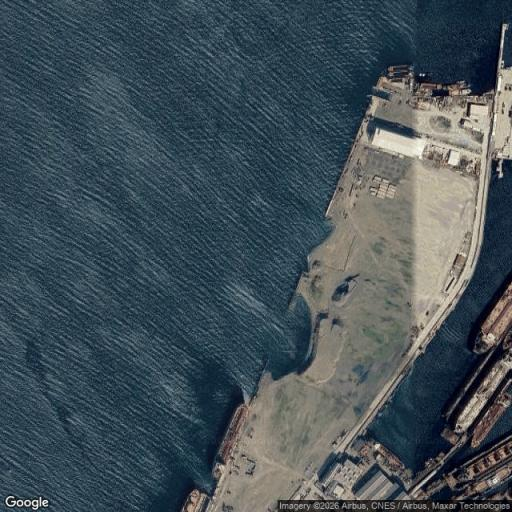ship: (454, 348, 511, 434), (473, 282, 511, 355), (212, 402, 248, 479), (472, 377, 511, 446), (454, 441, 511, 484), (453, 461, 511, 501), (368, 438, 405, 469), (180, 487, 200, 511), (501, 324, 511, 351), (441, 83, 473, 90), (388, 65, 414, 72), (426, 478, 441, 490), (448, 89, 472, 96), (421, 83, 443, 90), (387, 72, 413, 77)
